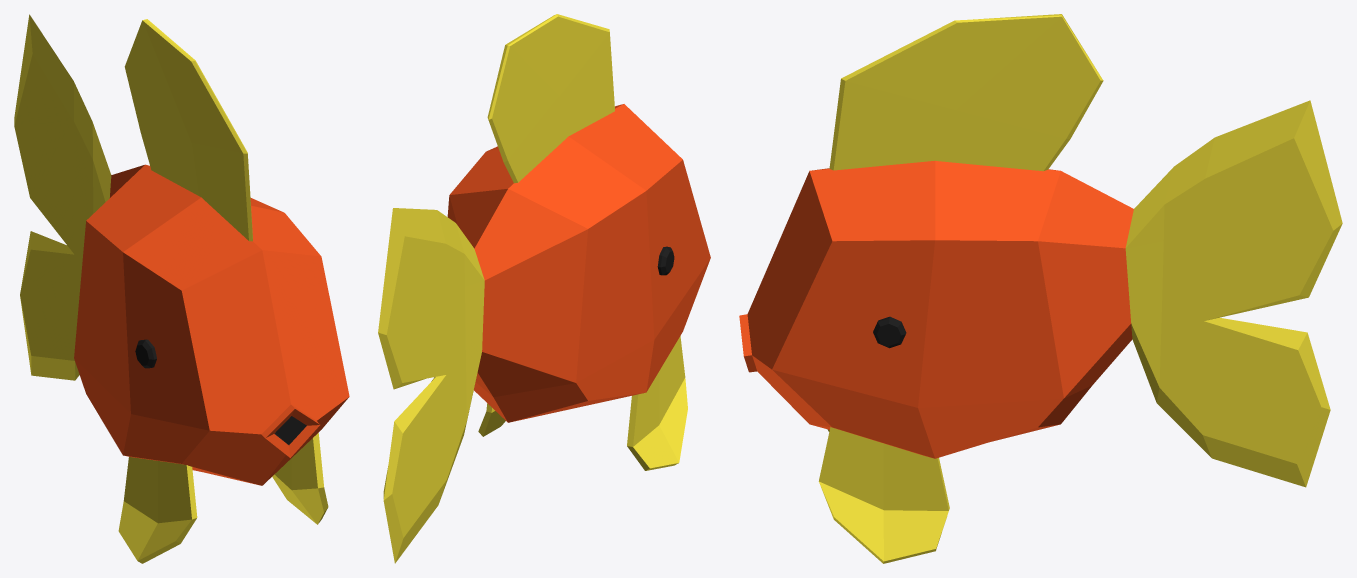
The model's file is animals-fish-094.glb.
3 renders of one model, left to right at view 1: azimuth 30°, elevation 25°; view 2: azimuth 150°, elevation 25°; view 3: azimuth 270°, elevation 25°, orthographic. The views are drawn at different scales.
Parts seen in each view (by area): view 1: Goldfish_01_Cube.058; view 2: Goldfish_01_Cube.058; view 3: Goldfish_01_Cube.058.
Boxes of the visible parts, bbox=[...] form: Goldfish_01_Cube.058: bbox=[14, 14, 349, 563]; Goldfish_01_Cube.058: bbox=[378, 14, 710, 563]; Goldfish_01_Cube.058: bbox=[739, 14, 1342, 563].
Bounding box in the file's own units: 4.73 × 11.42 × 12.45.
